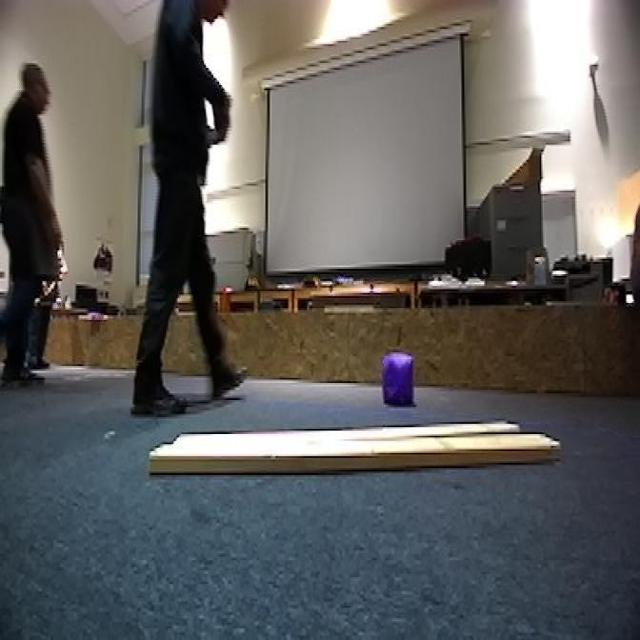frc_cube: (379, 354, 418, 405)
